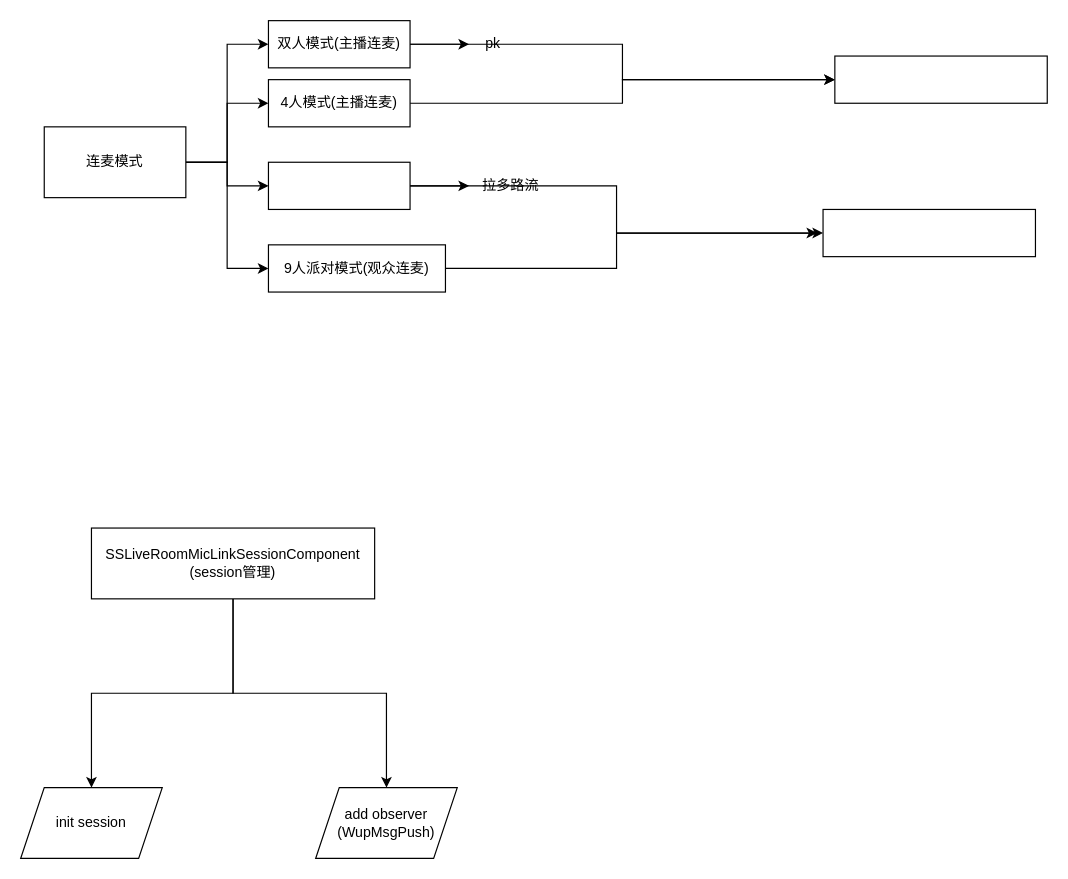
Image size: 1068x879. Some labels were removed from this diagram. The shapes that lost their labels are listed below. From the top down, each one's box as (x1, y1, x2, y2) in pixels, then its label:
(834, 55, 1047, 103): appid： nimolinkmic
(267, 161, 410, 209): 3人模式(观众连麦)
(822, 208, 1035, 257): appid： nimouserlinkmic
